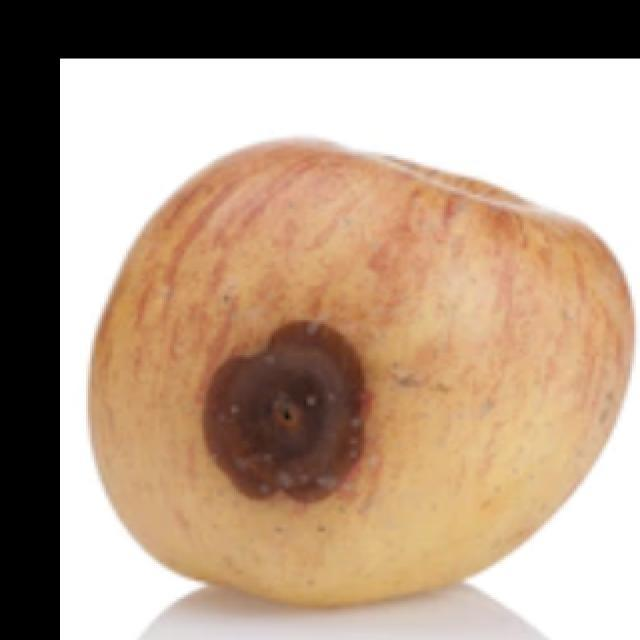Rotten: (85, 132, 635, 613)
